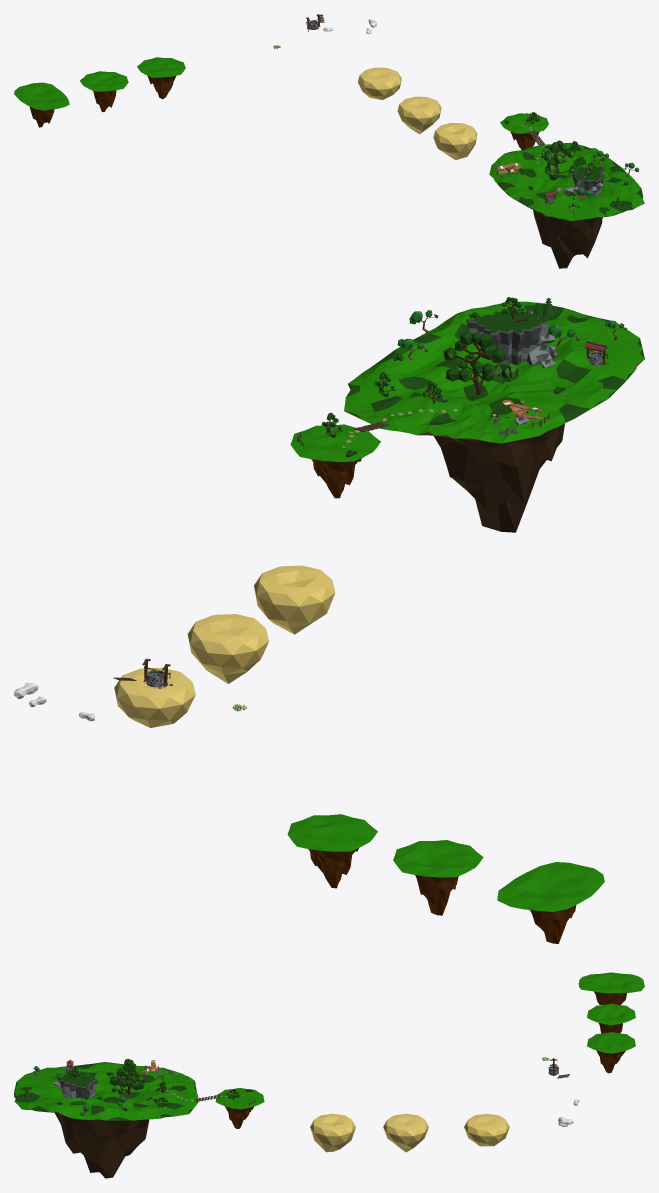
Rendered from TutorialPlattform.fbx.
The picture shows the model from 3 angles, top to bottom: view 1: azimuth 30°, elevation 25°; view 2: azimuth 150°, elevation 25°; view 3: azimuth 270°, elevation 25°; orthographic projection. The views are drawn at different scales.
Parts seen in each view (by area): view 1: TutorialPlattform, Icosphere.011, Icosphere.014, Icosphere.013, Icosphere.008, Icosphere.012, Icosphere.007; view 2: TutorialPlattform, Icosphere.011, Icosphere.014, Icosphere.013, Icosphere.008, Icosphere.007, Icosphere.012; view 3: TutorialPlattform, Icosphere.011, Icosphere.014, Icosphere.013, Icosphere.012, Icosphere.008, Icosphere.007.
Boxes of the visible parts, x1=… form: TutorialPlattform: x1=489, y1=112, x2=644, y2=268; Icosphere.011: x1=14, y1=82, x2=69, y2=127; Icosphere.014: x1=433, y1=122, x2=477, y2=160; Icosphere.013: x1=397, y1=96, x2=441, y2=134; Icosphere.008: x1=137, y1=57, x2=185, y2=99; Icosphere.012: x1=358, y1=67, x2=401, y2=99; Icosphere.007: x1=80, y1=71, x2=128, y2=112; TutorialPlattform: x1=290, y1=297, x2=644, y2=532; Icosphere.011: x1=497, y1=862, x2=604, y2=943; Icosphere.014: x1=254, y1=565, x2=335, y2=634; Icosphere.013: x1=187, y1=614, x2=268, y2=683; Icosphere.008: x1=287, y1=814, x2=377, y2=888; Icosphere.007: x1=393, y1=840, x2=483, y2=915; Icosphere.012: x1=114, y1=667, x2=195, y2=727; TutorialPlattform: x1=14, y1=1059, x2=264, y2=1178; Icosphere.011: x1=578, y1=972, x2=644, y2=1004; Icosphere.014: x1=310, y1=1113, x2=355, y2=1152; Icosphere.013: x1=383, y1=1113, x2=428, y2=1152; Icosphere.012: x1=464, y1=1113, x2=509, y2=1146; Icosphere.008: x1=587, y1=1032, x2=635, y2=1073; Icosphere.007: x1=587, y1=1003, x2=635, y2=1033.
Size of the model in its own units: 18338 by 5726 by 27452.
